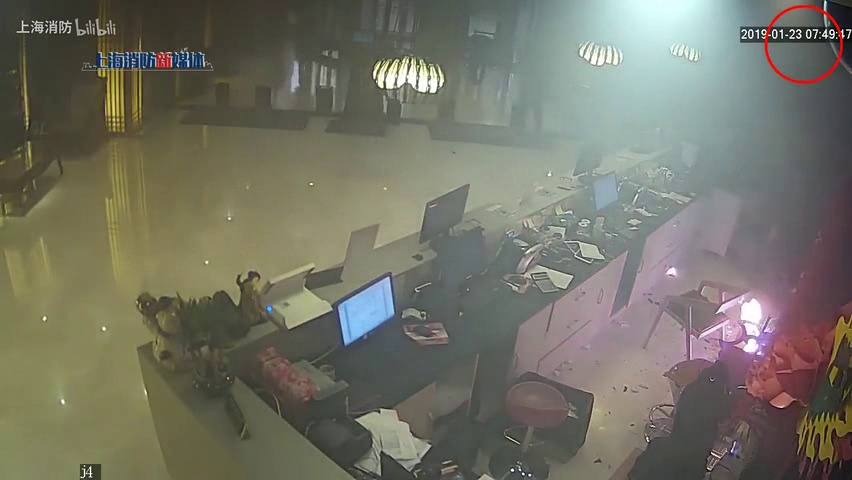fire: (736, 294, 769, 359)
